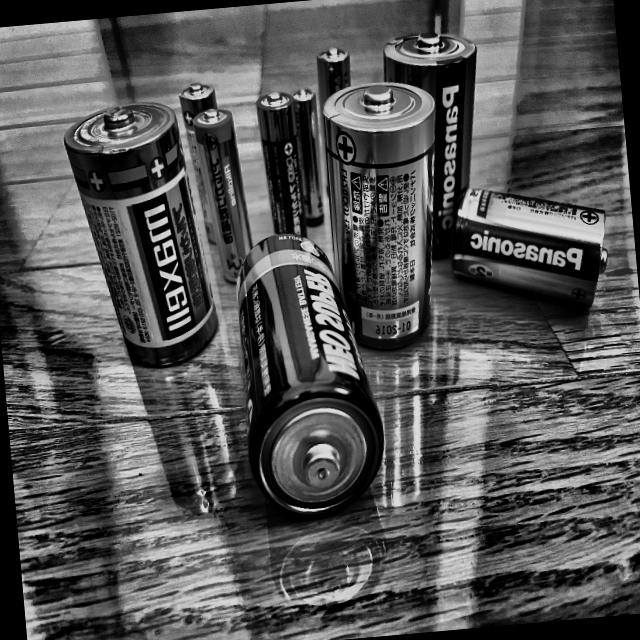drycell: (376, 22, 500, 272), (438, 165, 618, 323)
